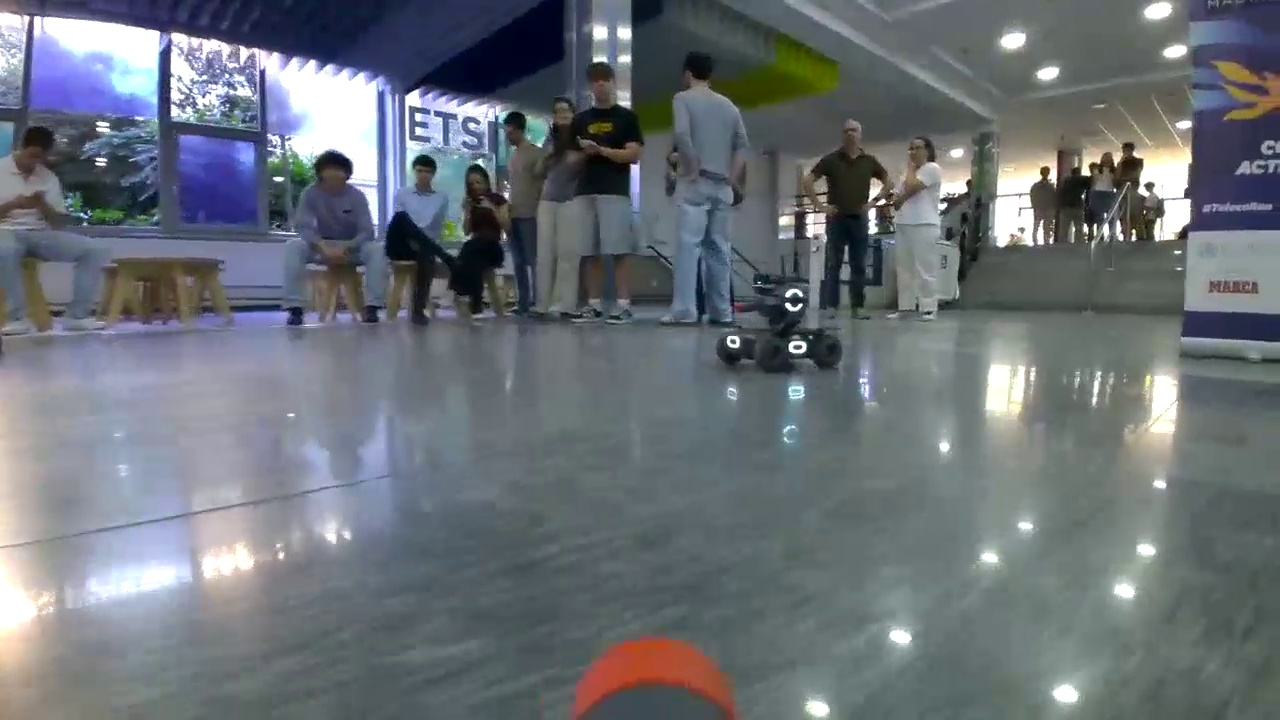robot: (713, 285, 842, 372)
